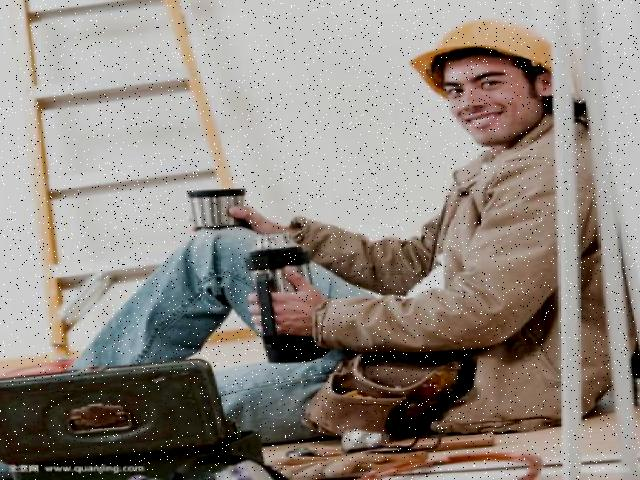Helmet: (402, 15, 562, 109)
